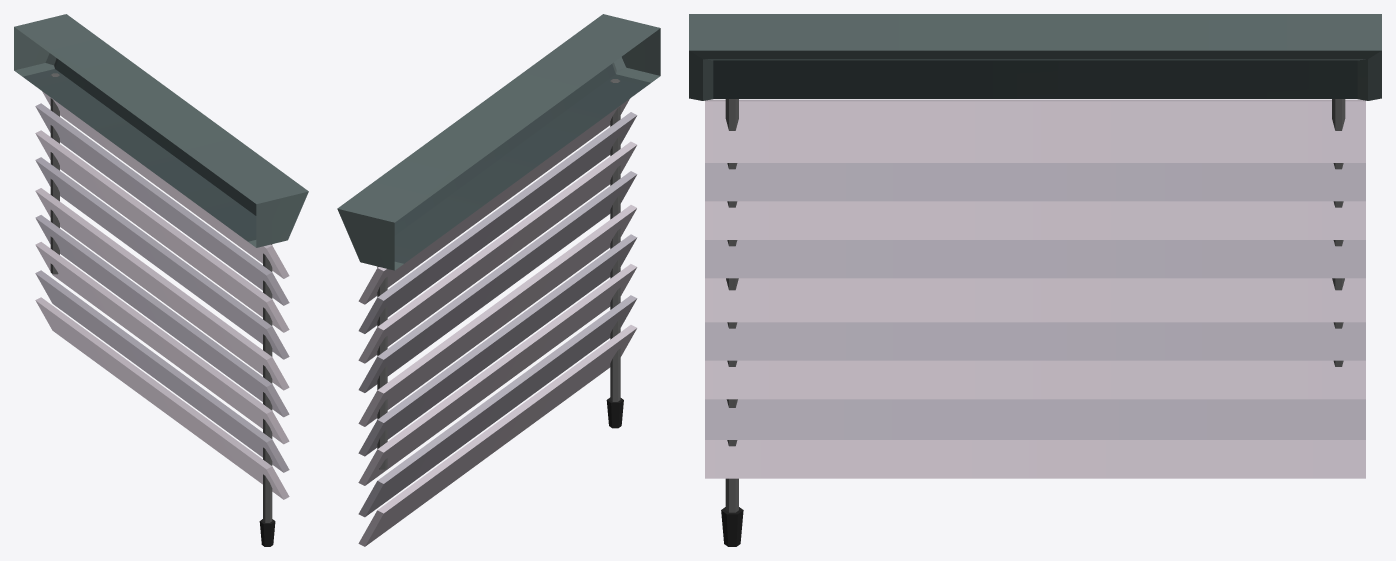
The model's file is Jalousie.fbx.
3 renders of one model, left to right at view 1: azimuth 30°, elevation 25°; view 2: azimuth 150°, elevation 25°; view 3: azimuth 270°, elevation 25°, orthographic. The views are drawn at different scales.
Visible parts, largest first — view 1: Jalousie01; view 2: Jalousie01; view 3: Jalousie01.
Part boxes in pixels (left/top/right/bottom): Jalousie01: left=14, top=14, right=308, bottom=546; Jalousie01: left=337, top=14, right=660, bottom=546; Jalousie01: left=689, top=14, right=1381, bottom=546.
Bounding box in the file's own units: 8 × 52.15 × 64.
